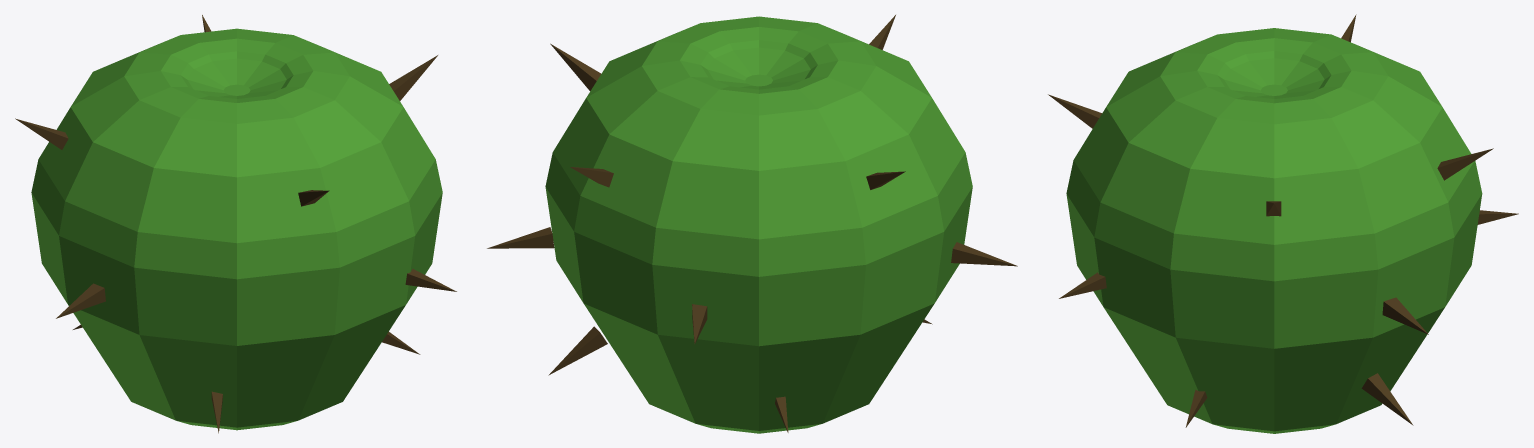
Rendered from cactus1.fbx.
3 views of the same model, side by side, from view 1: azimuth 30°, elevation 25°; view 2: azimuth 150°, elevation 25°; view 3: azimuth 270°, elevation 25° (orthographic). The views are drawn at different scales.
Visible parts, largest first — view 1: Cactus Fat; view 2: Cactus Fat; view 3: Cactus Fat.
Boxes of the visible parts, left/top/right/bottom form: Cactus Fat: left=15, top=15, right=456, bottom=433; Cactus Fat: left=487, top=15, right=1017, bottom=433; Cactus Fat: left=1048, top=14, right=1518, bottom=433.
Bounding box in the file's own units: 247 × 181 × 239.
